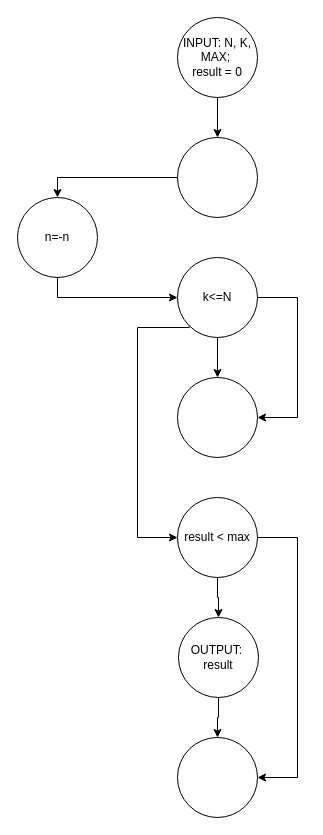
Some shapes in this 323 by 835 pixel diagram are drawn without their labels. The box of each missing label's shape, as (x1, y1, x2, y2) in pixels:
end: (176, 736, 258, 818)
n>=0: (176, 136, 258, 218)
result +=k k++: (176, 376, 258, 458)
